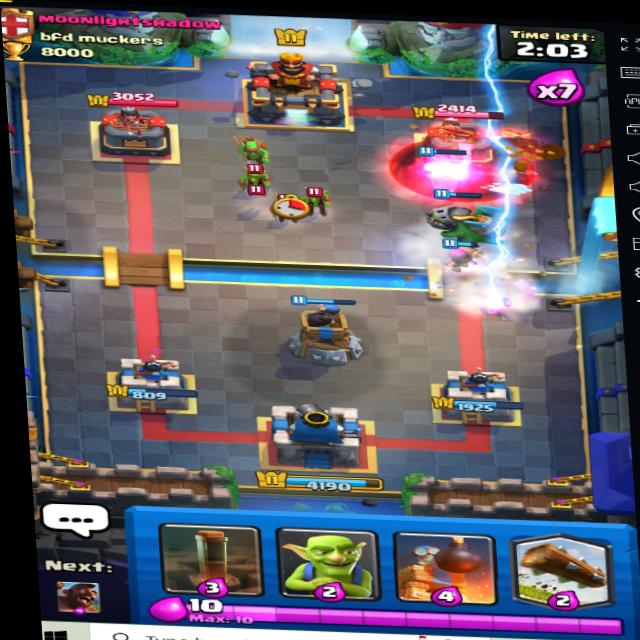goblin: (231, 163, 276, 195), (299, 185, 342, 213)
lightning: (448, 17, 530, 310)
spear-goblin: (224, 131, 285, 169)
void: (394, 132, 538, 205)
